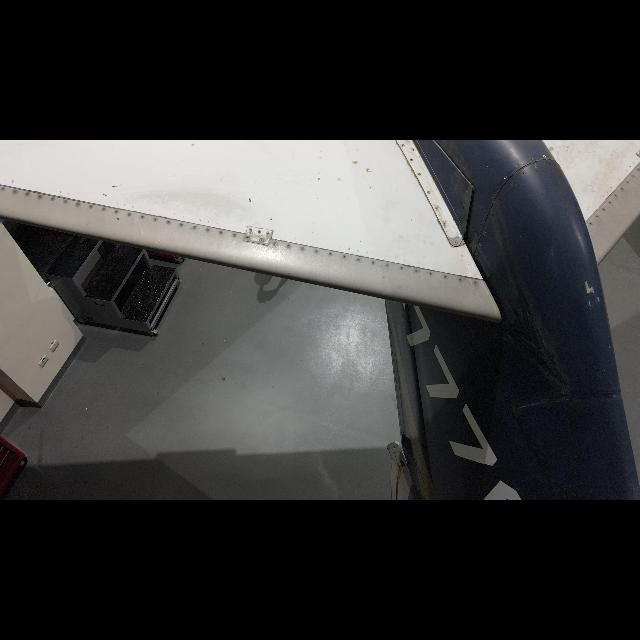Missing Fastener: (501, 172, 509, 182)
